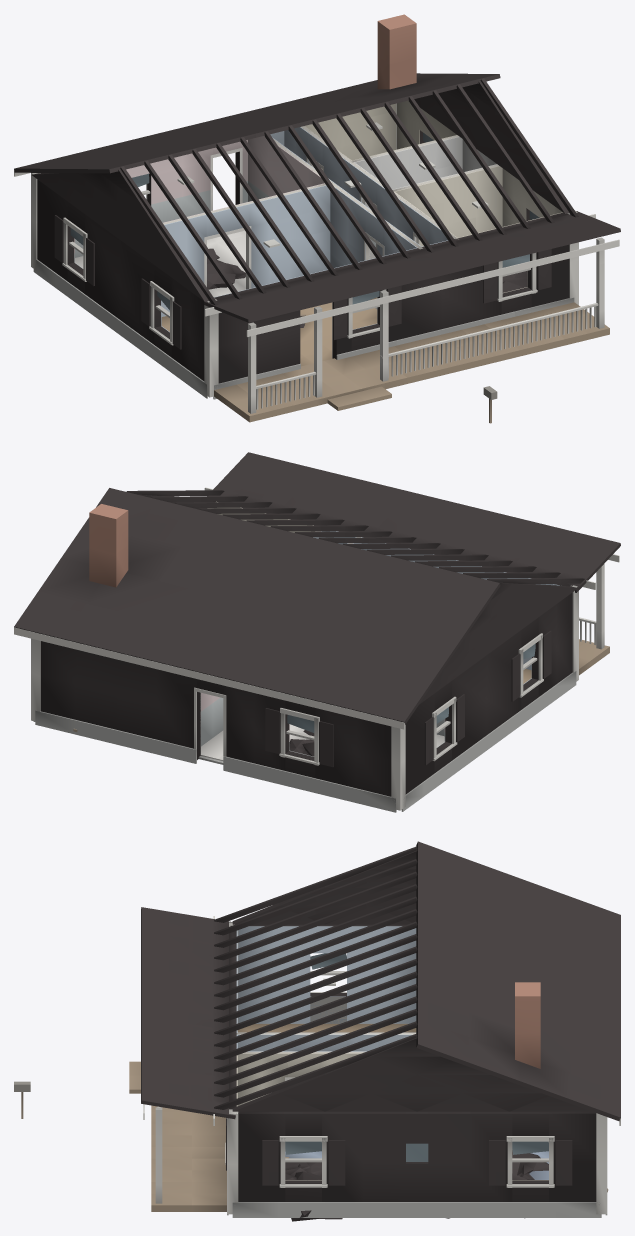
File: casa_us_q2.glb
The picture shows the model from 3 angles, top to bottom: view 1: azimuth 30°, elevation 25°; view 2: azimuth 150°, elevation 25°; view 3: azimuth 270°, elevation 25°; orthographic projection. The views are drawn at different scales.
Visible parts, largest first — view 1: longe, ext, dentro, detalhe; view 2: longe, ext, detalhe, dentro; view 3: longe, ext, dentro, detalhe.
Part boxes in pixels (x1=…): longe: x1=14, y1=73, x2=620, y2=422; ext: x1=31, y1=14, x2=578, y2=399; dentro: x1=74, y1=100, x2=562, y2=366; detalhe: x1=54, y1=132, x2=551, y2=423; longe: x1=14, y1=452, x2=620, y2=732; ext: x1=31, y1=494, x2=578, y2=812; detalhe: x1=194, y1=630, x2=551, y2=767; dentro: x1=198, y1=501, x2=559, y2=764; longe: x1=141, y1=841, x2=620, y2=1218; ext: x1=227, y1=848, x2=607, y2=1217; dentro: x1=236, y1=926, x2=548, y2=1180; detalhe: x1=14, y1=953, x2=572, y2=1221.
Size of what is drawn, in the model's own units: 13 by 6.79 by 16.45.
